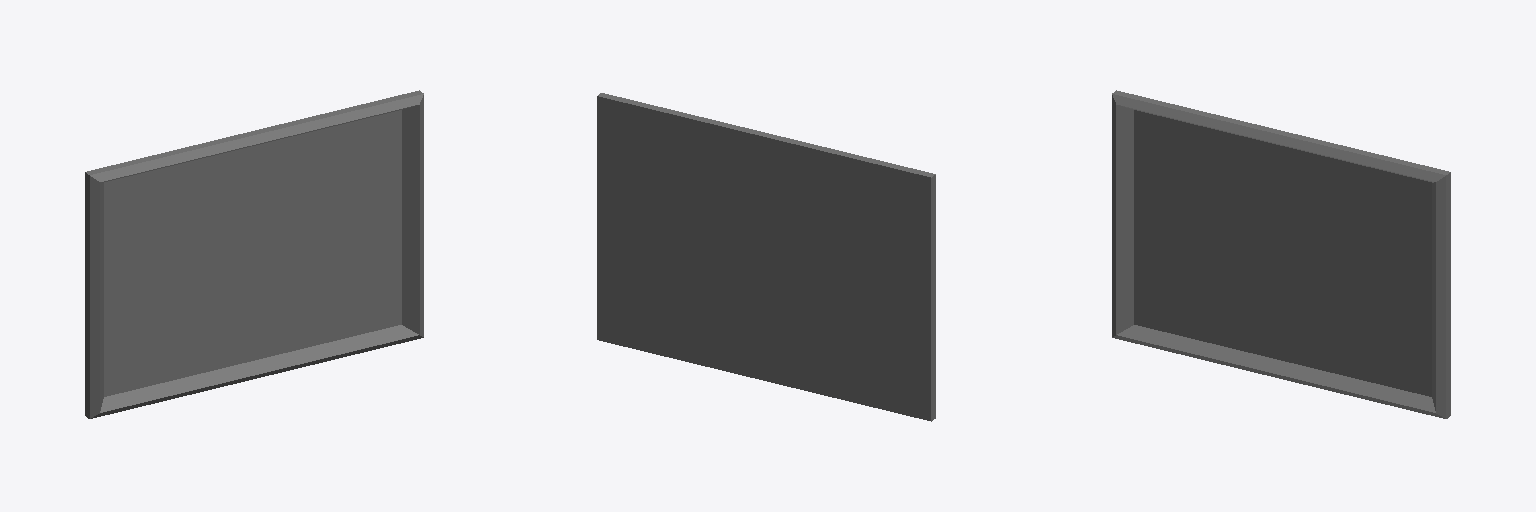
File: frame_2.obj
3 renders of one model, left to right at view 1: azimuth 30°, elevation 25°; view 2: azimuth 150°, elevation 25°; view 3: azimuth 330°, elevation 25°, orthographic.
Visible parts, largest first — view 1: frame_2:frame; view 2: frame_2:frame; view 3: frame_2:frame.
Part boxes in pixels (x1,y1,x2,y2): frame_2:frame: (85, 90, 423, 418); frame_2:frame: (597, 93, 935, 421); frame_2:frame: (1112, 90, 1450, 418).
Bounding box in the file's own units: 12.51 × 8.72 × 0.5008.